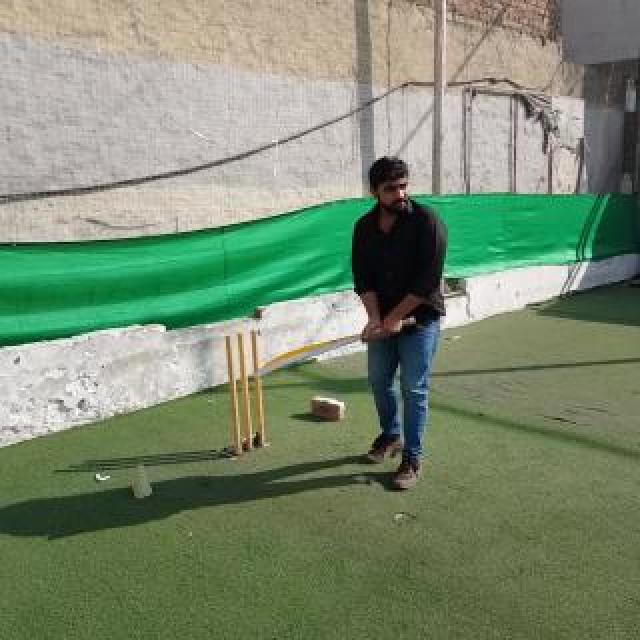bat: (253, 317, 417, 379)
